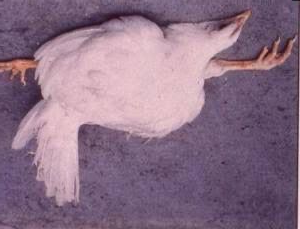Unhealthy: (3, 5, 288, 210)
